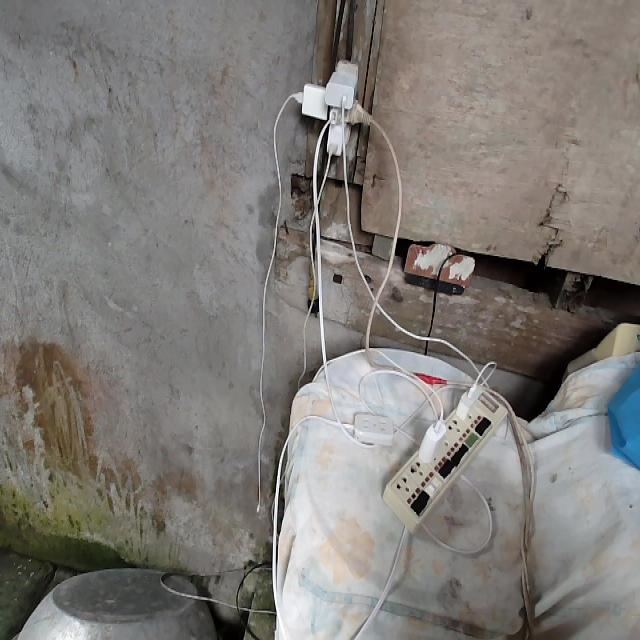-: (289, 53, 382, 159)
